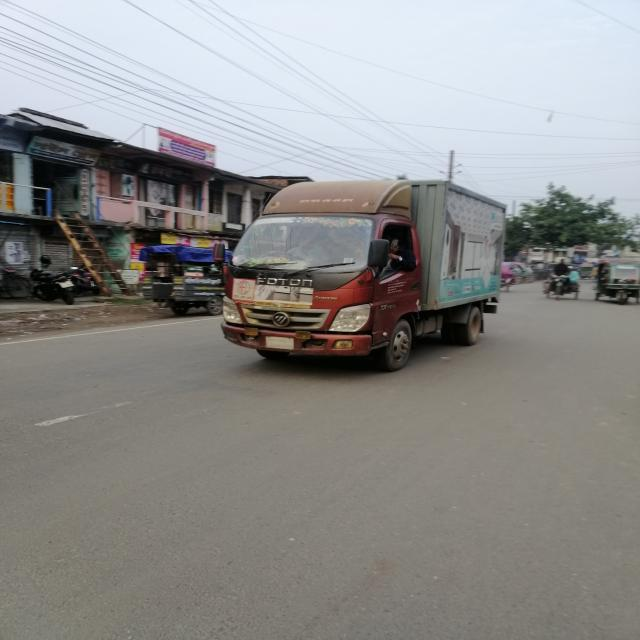Pick-up-van: (218, 178, 516, 376)
